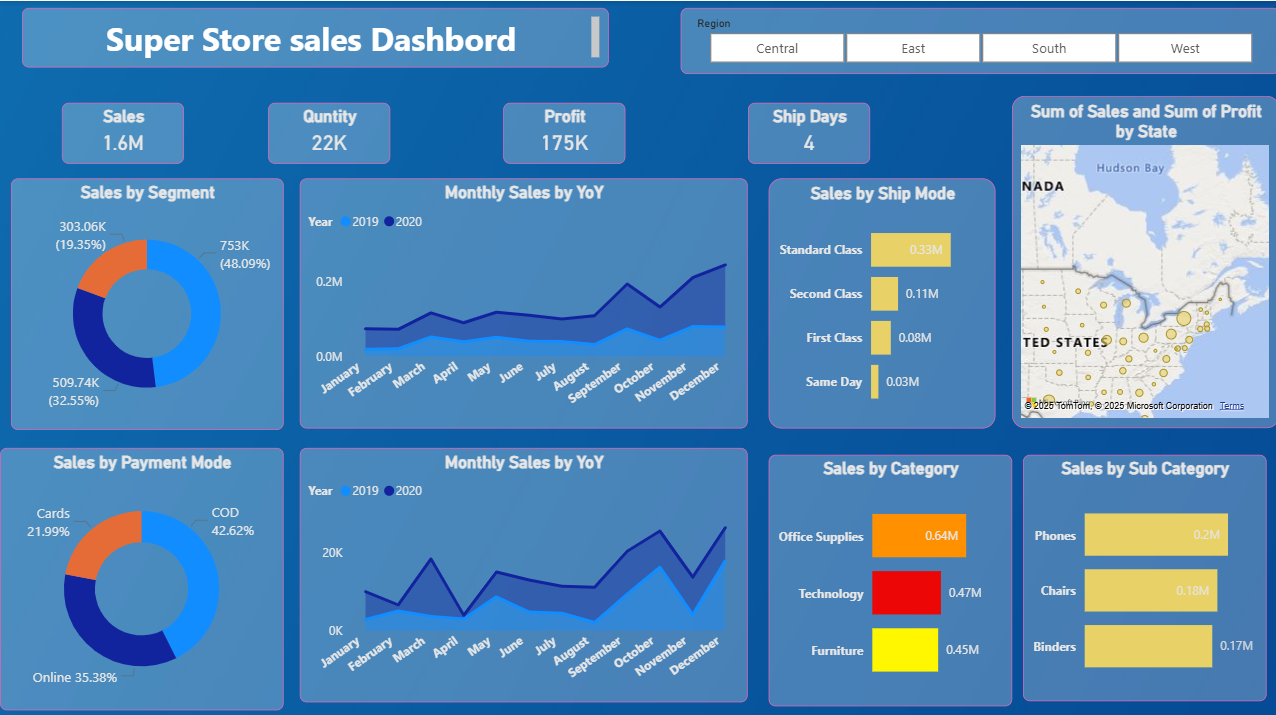

This screenshot's page, from the dashboard's own definition file:
{"tool":"powerbi","page":{"name":"Sales Dashbord","canvas":[1280,720],"ordinal":0},"visuals":[{"type":"clusteredBarChart","title":" Sales by Category","fields":{"Category":["Sheet1 (2).Category"],"Y":["Sum(Sheet1 (2).Sales)"]},"box":[768.8,454.5,243.4,251.4],"z":0},{"type":"clusteredBarChart","title":" Sales by Sub Category","fields":{"Category":["Sheet1 (2).Sub-Category"],"Y":["Sum(Sheet1 (2).Sales)"]},"box":[1023.5,454.5,243.4,246.6],"z":1000},{"type":"clusteredBarChart","title":" Sales by Ship Mode","fields":{"Category":["Sheet1 (2).Ship Mode"],"Y":["Sum(Sheet1 (2).Sales)"]},"box":[768.8,177.3,227.3,249.8],"z":2000},{"type":"stackedAreaChart","title":"Monthly Sales by YoY","fields":{"Y":["Sum(Sheet1 (2).Sales)"],"Category":["Sheet1 (2).Order Date.Variation.Date Hierarchy.Month"],"Series":["Sheet1 (2).Order Date.Variation.Date Hierarchy.Year"]},"box":[299.8,177.3,448.1,249.8],"z":3000},{"type":"stackedAreaChart","title":"Monthly Sales by YoY","fields":{"Category":["Sheet1 (2).Order Date.Variation.Date Hierarchy.Month"],"Series":["Sheet1 (2).Order Date.Variation.Date Hierarchy.Year"],"Y":["Sum(Sheet1 (2).Profit)"]},"box":[299.8,446.5,448.1,254.7],"z":4000},{"type":"map","fields":{"Category":["Sheet1 (2).State"],"Size":["Sum(Sheet1 (2).Sales)"]},"box":[1012.2,95.1,267.5,332],"z":5000},{"type":"donutChart","title":" Sales by Segment","fields":{"Category":["Sheet1 (2).Segment"],"Y":["Sum(Sheet1 (2).Sales)"]},"box":[11.3,177.3,272.4,251.4],"z":6000},{"type":"donutChart","title":"Sales by Payment Mode","fields":{"Category":["Sheet1 (2).Payment Mode"],"Y":["Sum(Sheet1 (2).Sales)"]},"box":[0,446.5,283.7,262.7],"z":7000},{"type":"slicer","fields":{"Values":["Sheet1 (2).Region"]},"box":[680.2,6.4,599.6,66.1],"z":8000},{"type":"textbox","box":[22.6,6.4,586.7,59.6],"z":9000},{"type":"card","title":"Sales","fields":{"Values":["Sum(Sheet1 (2).Sales)"]},"box":[61.2,101.5,122.5,61.2],"z":10000},{"type":"card","title":"Quntity","fields":{"Values":["Sum(Sheet1 (2).Quantity)"]},"box":[267.5,101.5,122.5,61.2],"z":11000},{"type":"card","title":"Profit","fields":{"Values":["Sum(Sheet1 (2).Profit)"]},"box":[502.9,101.5,122.5,61.2],"z":12000},{"type":"card","title":"Ship Days","fields":{"Values":["Avg(Sheet1 (2).AvgDelivery)"]},"box":[747.8,101.5,122.5,61.2],"z":13000}]}

Visuals, with their boxes in screenshot pixels (x1, y1, x2, y2), scaled from the page's 1280x720 canvas onto the 1276x715 screenshot:
" Sales by Category" clusteredBarChart: BBox(766, 451, 1009, 701)
" Sales by Sub Category" clusteredBarChart: BBox(1020, 451, 1263, 696)
" Sales by Ship Mode" clusteredBarChart: BBox(766, 176, 993, 424)
"Monthly Sales by YoY" stackedAreaChart: BBox(299, 176, 746, 424)
"Monthly Sales by YoY" stackedAreaChart: BBox(299, 443, 746, 696)
map - Sheet1 (2).State x Sum(Sheet1 (2).Sales): BBox(1009, 94, 1275, 424)
" Sales by Segment" donutChart: BBox(11, 176, 283, 426)
"Sales by Payment Mode" donutChart: BBox(0, 443, 283, 704)
slicer - Sheet1 (2).Region: BBox(678, 6, 1275, 72)
textbox: BBox(23, 6, 607, 66)
"Sales" card: BBox(61, 101, 183, 162)
"Quntity" card: BBox(267, 101, 389, 162)
"Profit" card: BBox(501, 101, 623, 162)
"Ship Days" card: BBox(745, 101, 868, 162)
